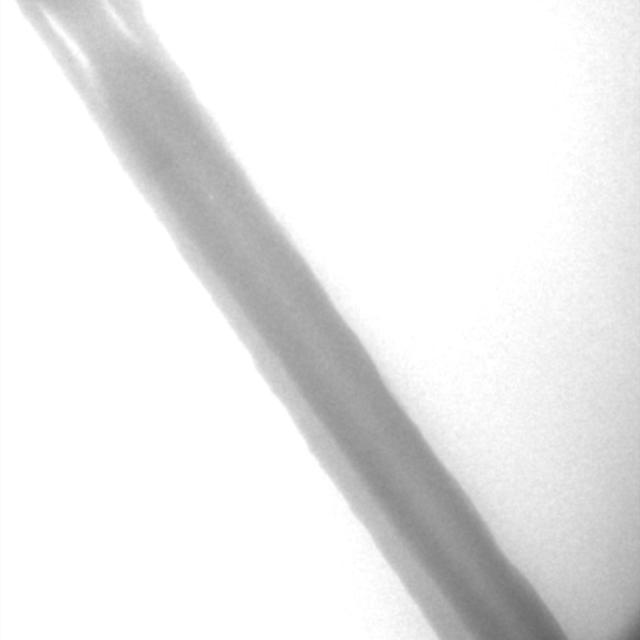unfused: (28, 0, 163, 95)
